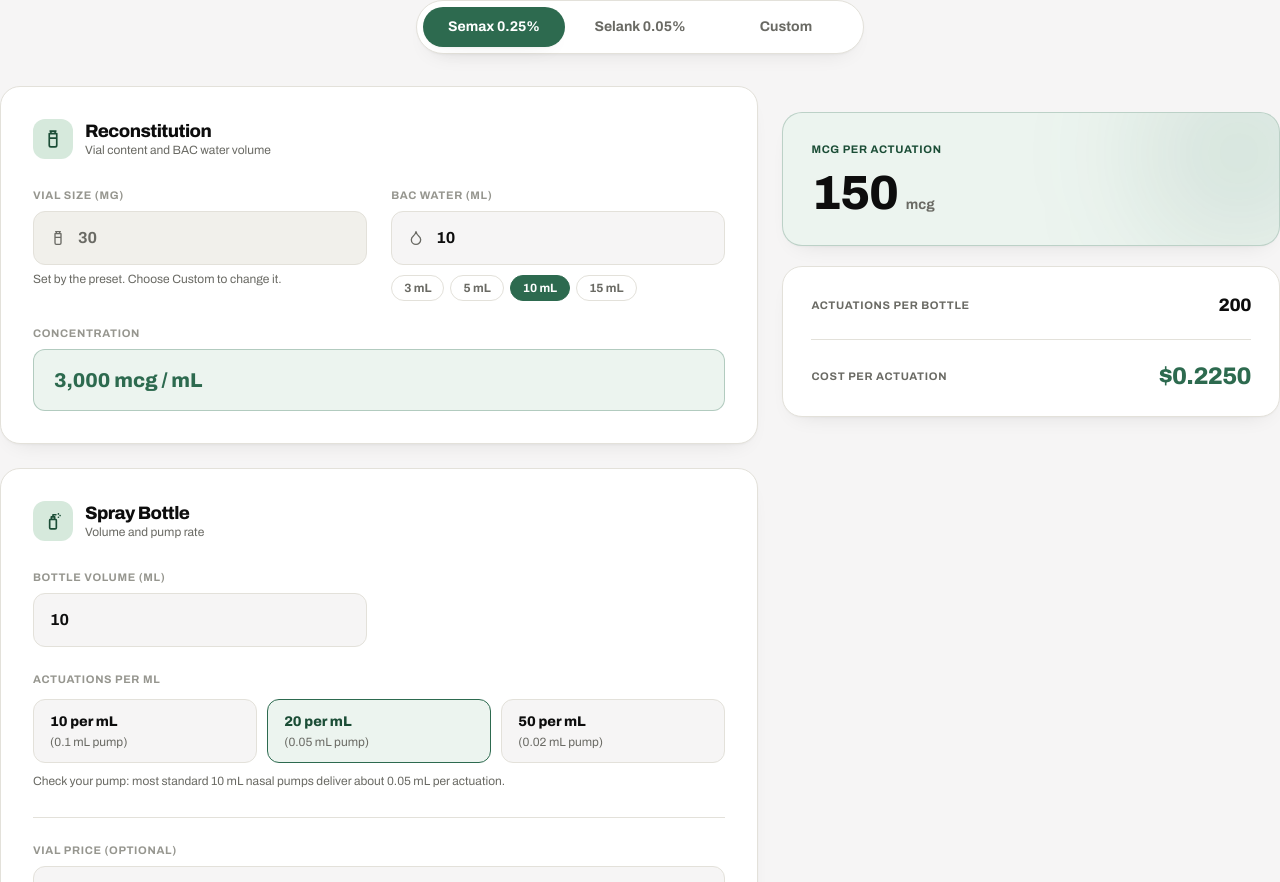
it: IntranasalCalculator › Selank 0.05% loads its own vial and water
Click the button "Selank 0.05%".
click(640, 27)  # box [569,7,711,47]
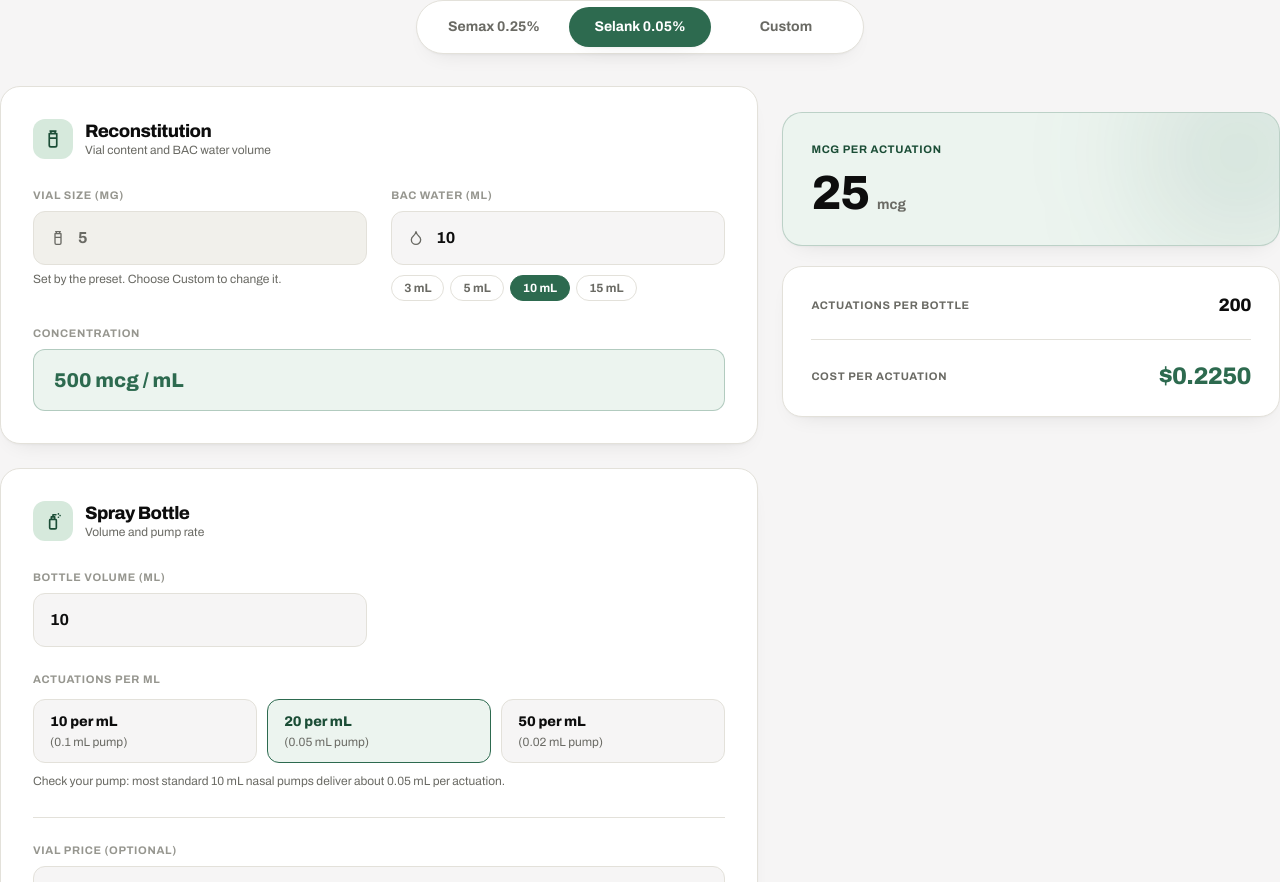
Expected: the text "500 mcg / mL" is shown, [33,349,725,411]
Expected: the text "25" is shown, [811,169,869,217]
